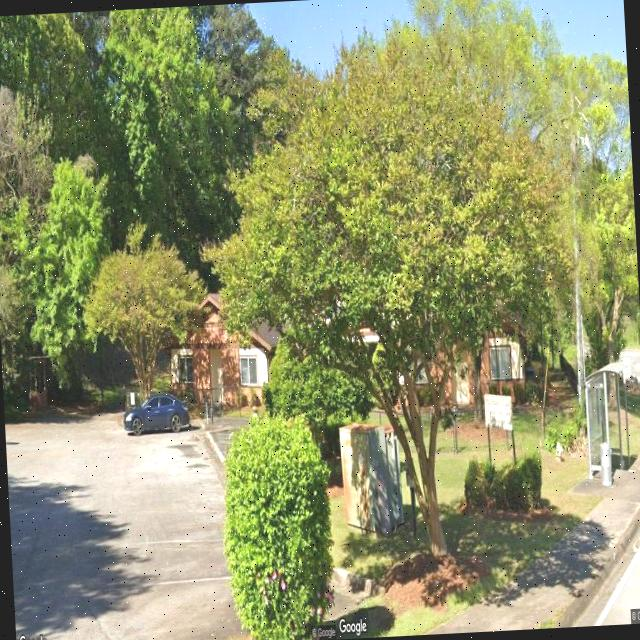shelter: (584, 362, 632, 483)
trash_can: (600, 441, 614, 486)
